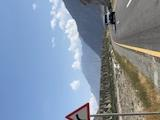right_turn: (54, 112, 107, 120)
